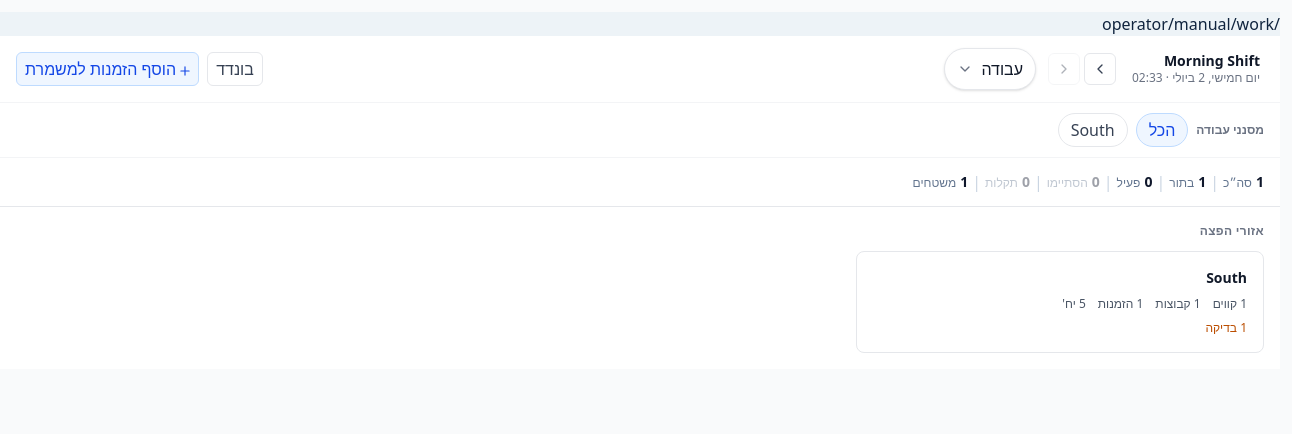
Test: ManualOperatorPage URL sections › does not regress normal unique-line desktop hierarchy selection
The width and height of the screenshot is (1292, 434).
Click the button with test id "area-card-south" at x=1060, y=302, box left=856, top=251, right=1264, bottom=353
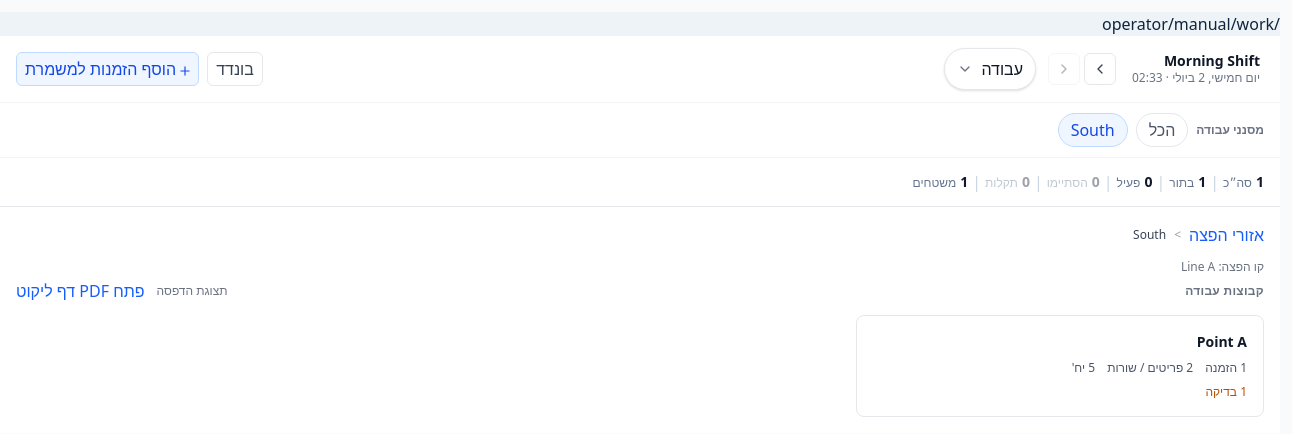
Expected: the button with test id "work-bucket-card-Point A" is shown, left=857, top=316, right=1263, bottom=416
